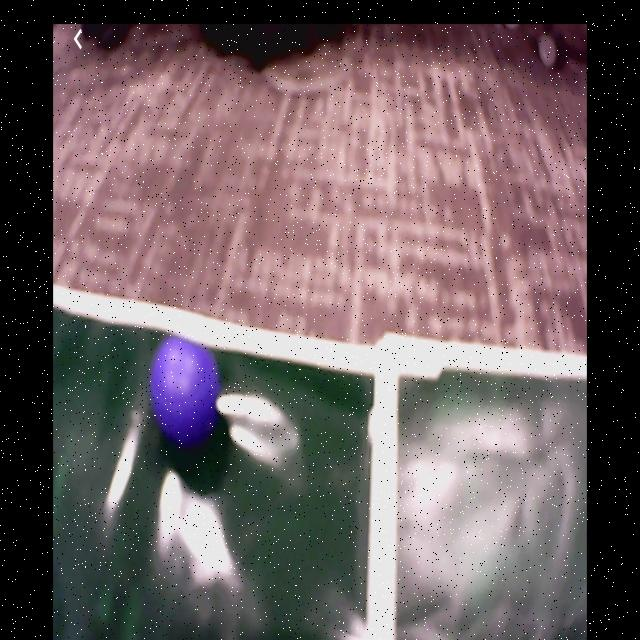ball: (149, 337, 218, 437)
